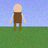person: (9, 4, 25, 31)
